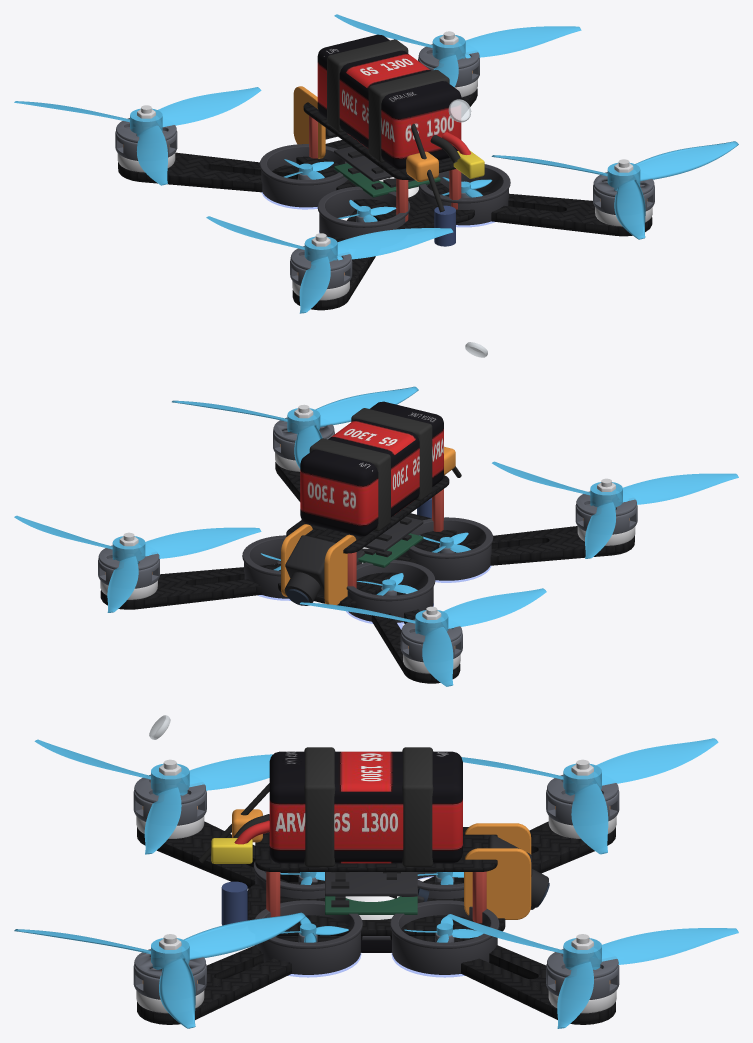
Rendered from fpv.glb.
3 renders of one model, top to bottom at view 1: azimuth 30°, elevation 25°; view 2: azimuth 150°, elevation 25°; view 3: azimuth 270°, elevation 25°, orthographic. The views are drawn at different scales.
Parts seen in each view (by area): view 1: quad_body, whoop_body, quad_rotor_rl, quad_rotor_fl, quad_rotor_rr, quad_rotor_fr, whoop_rotor_fl; view 2: quad_body, whoop_body, quad_rotor_rl, quad_rotor_fr, quad_rotor_fl, quad_rotor_rr; view 3: quad_body, whoop_body, quad_rotor_fr, quad_rotor_rr, quad_rotor_fl, quad_rotor_rl, whoop_rotor_fr, whoop_rotor_rr.
Part boxes in pixels (x1,y1,x2,y2): quad_body: (117,34,652,310); whoop_body: (259,144,510,238); quad_rotor_rl: (206,216,453,313); quad_rotor_fl: (14,87,261,185); quad_rotor_rr: (491,141,738,239); quad_rotor_fr: (334,14,581,87); whoop_rotor_fl: (283,159,333,179); quad_body: (100,342,635,683); whoop_body: (242,517,493,622); quad_rotor_rl: (492,461,738,558); quad_rotor_fr: (14,515,261,612); quad_rotor_fl: (300,588,546,686); quad_rotor_rr: (172,386,418,468); quad_body: (136,715,616,1024); whoop_body: (253,861,499,974); quad_rotor_fr: (447,914,738,1028); quad_rotor_rr: (14,912,305,1028); quad_rotor_fl: (461,738,718,854); quad_rotor_rl: (34,739,272,854); whoop_rotor_fr: (404,916,483,942); whoop_rotor_rr: (281,917,348,942).
Bounding box in the file's own units: 0.2653 × 0.0947 × 0.2812.
Materials: 23 (3 with a texture image).
